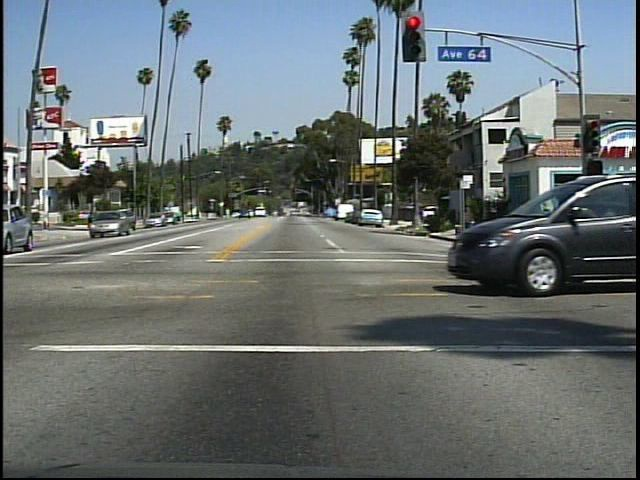person: (534, 194, 560, 247)
